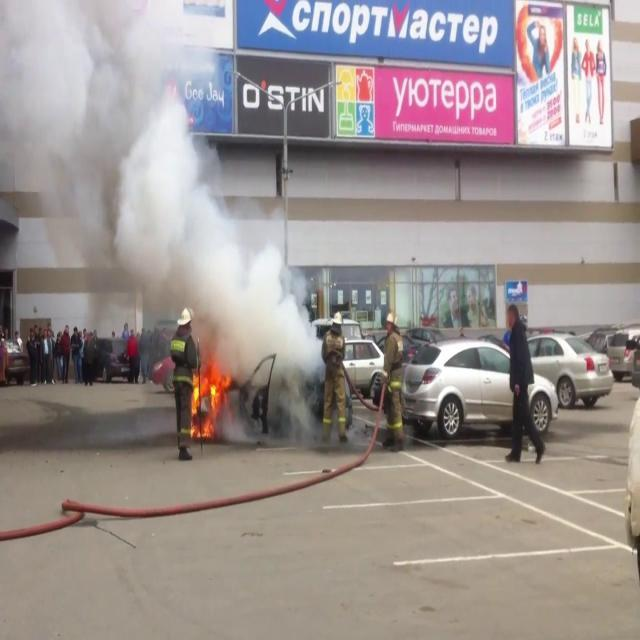Fire: (188, 359, 228, 436)
Smoke: (0, 0, 316, 360)
